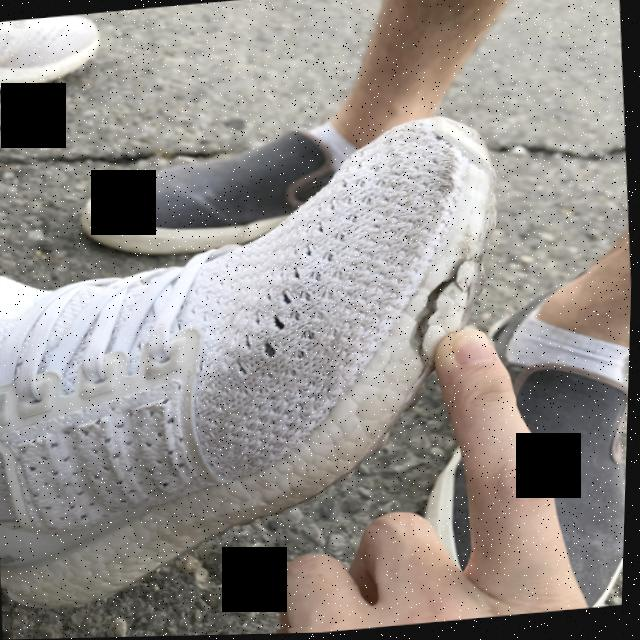shoe: (0, 100, 539, 640)
